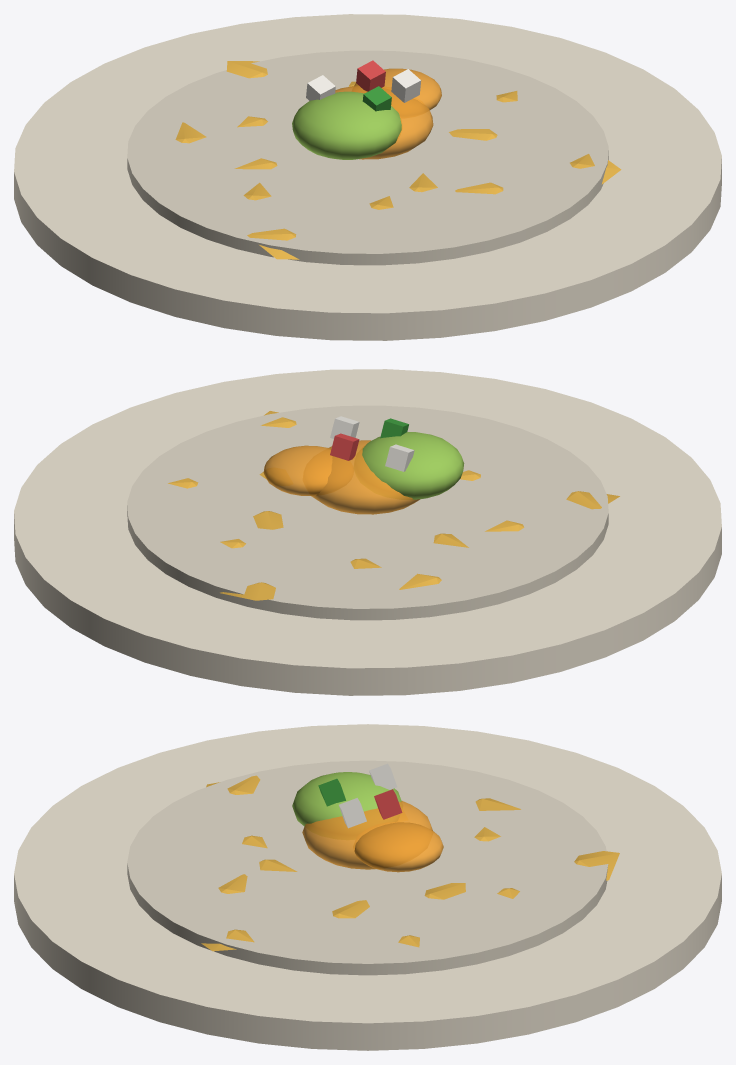
Rendered from nachos.glb.
3 views of the same model, one above another, from view 1: azimuth 30°, elevation 25°; view 2: azimuth 150°, elevation 25°; view 3: azimuth 270°, elevation 25° (orthographic).
Size of the model in its own units: 0.28 by 0.0506 by 0.28.
